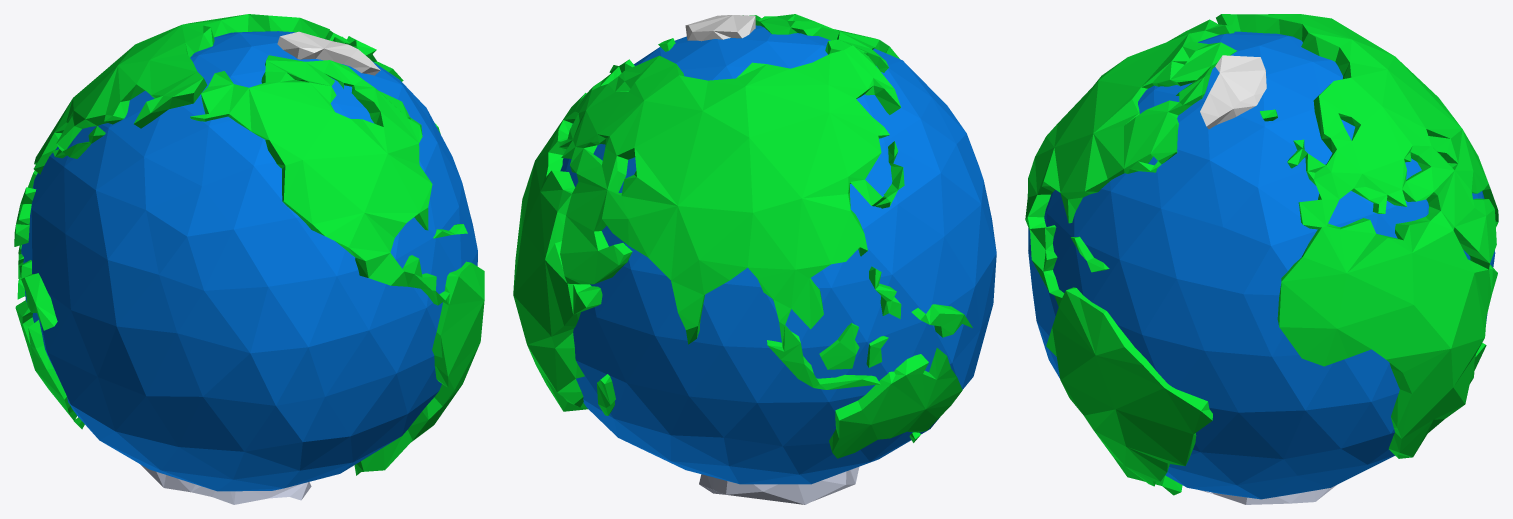
File: low_poly_earth.fbx
The picture shows the model from 3 angles, left to right: view 1: azimuth 30°, elevation 25°; view 2: azimuth 150°, elevation 25°; view 3: azimuth 270°, elevation 25°; orthographic projection.
Parts seen in each view (by area): view 1: ocean, world, icy bits; view 2: world, ocean, icy bits; view 3: world, ocean, icy bits.
Part boxes in pixels (bbox=[...]): ocean: bbox=[21, 31, 477, 491]; world: bbox=[14, 14, 484, 475]; icy bits: bbox=[140, 31, 380, 504]; world: bbox=[513, 14, 972, 458]; ocean: bbox=[560, 25, 996, 484]; icy bits: bbox=[685, 15, 859, 504]; world: bbox=[1025, 14, 1498, 495]; ocean: bbox=[1028, 31, 1495, 499]; icy bits: bbox=[1199, 55, 1336, 504].
Bounding box in the file's own units: 351 × 361 × 342.
